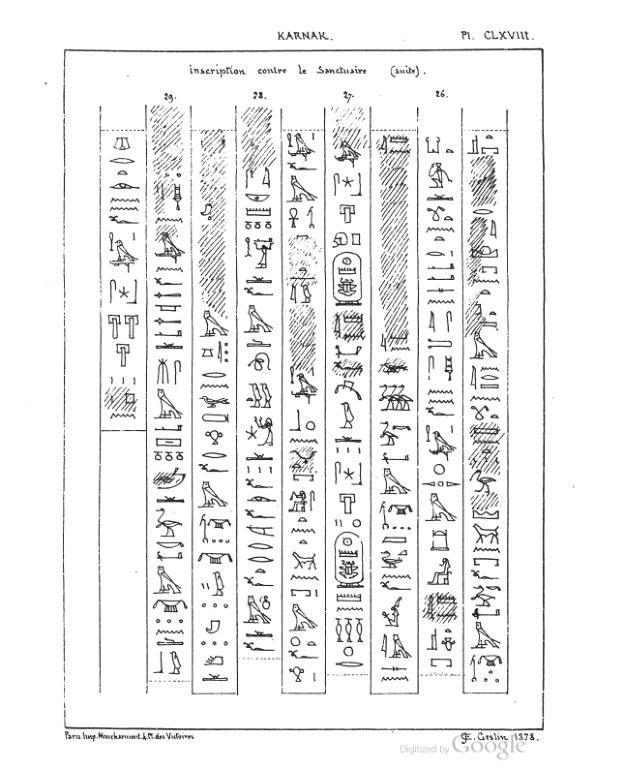circle: (331, 528, 367, 590), (331, 250, 367, 308)
